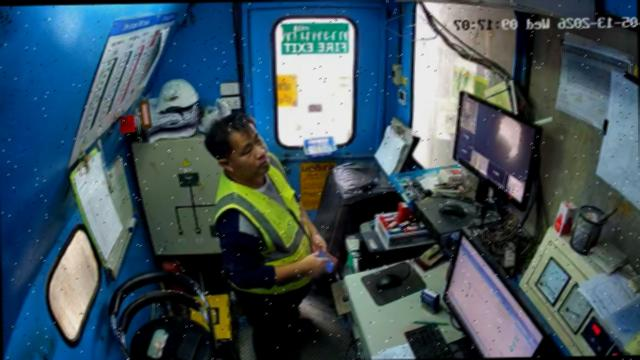Head: (203, 114, 270, 180)
People: (317, 253, 336, 271)
Phone: (202, 115, 330, 359), (174, 331, 205, 360), (160, 335, 180, 358)
